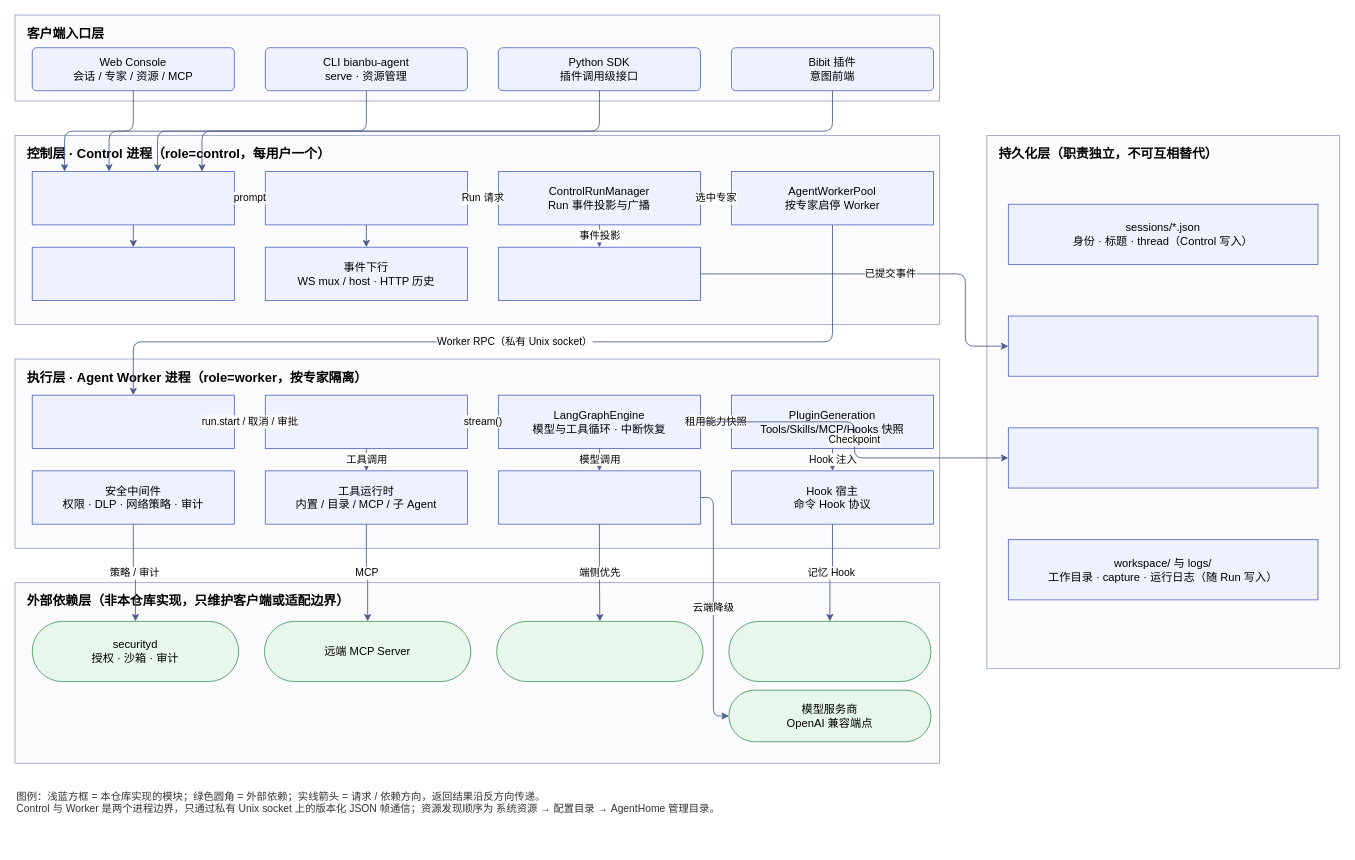
This 1355x860 diagram has some shape labels left out. The shapes that lost their labels are listed below. From the top down, each one's centre as x and y in pixels, then its label:
pixel 132 198: FastAPI 应用 /api/v1 · Console · /metrics
pixel 365 198: SessionInputBroker 去重 · next-step FIFO
pixel 132 273: 会话与输入存储 JSONSessionStore · Inbox
pixel 599 273: SessionLogStore（Control） 已提交事件
pixel 1162 345: SessionLogStore JSONL Run · Inbox · 连续 seq 事件（Control + Worker）
pixel 132 421: WorkerRPC Server 私有 Unix Socket · 严格 JSON
pixel 365 421: RunManager 并发准入 · thread 锁 · 租约
pixel 1162 457: LangGraph Checkpoint（SQLite） 图状态 · 中断与恢复
pixel 599 497: 模型客户端 OpenAI 兼容 Provider
pixel 599 651: Bibit Intent 127.0.0.1:8765
pixel 829 651: Memoryd agent-memory
